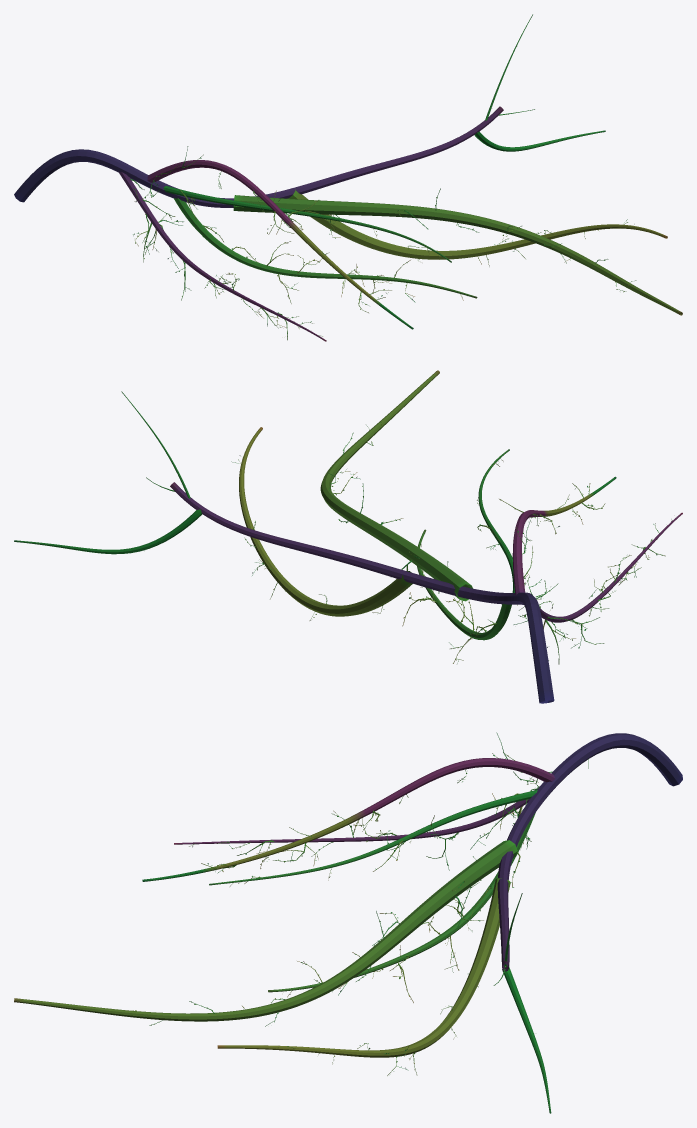
File: ufo_rm_spur.obj
3 renders of one model, top to bottom at view 1: azimuth 30°, elevation 25°; view 2: azimuth 150°, elevation 25°; view 3: azimuth 270°, elevation 25°, orthographic. The views are drawn at different scales.
Size of the model in its own units: 2.14 by 0.7662 by 1.97.
